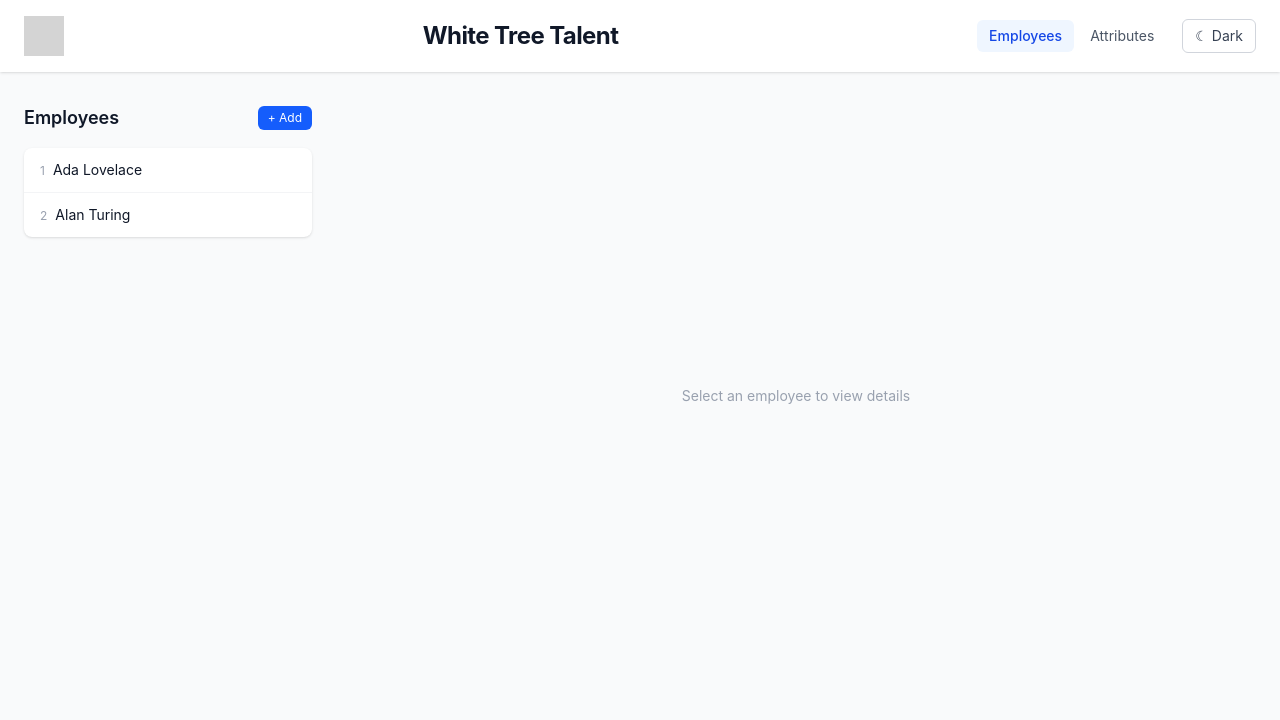
App › renders snapshot fields after selecting an employee
This screenshot has width=1280, height=720.
Click the button "1Ada Lovelace": (113, 170) left=24, top=148, right=312, bottom=192
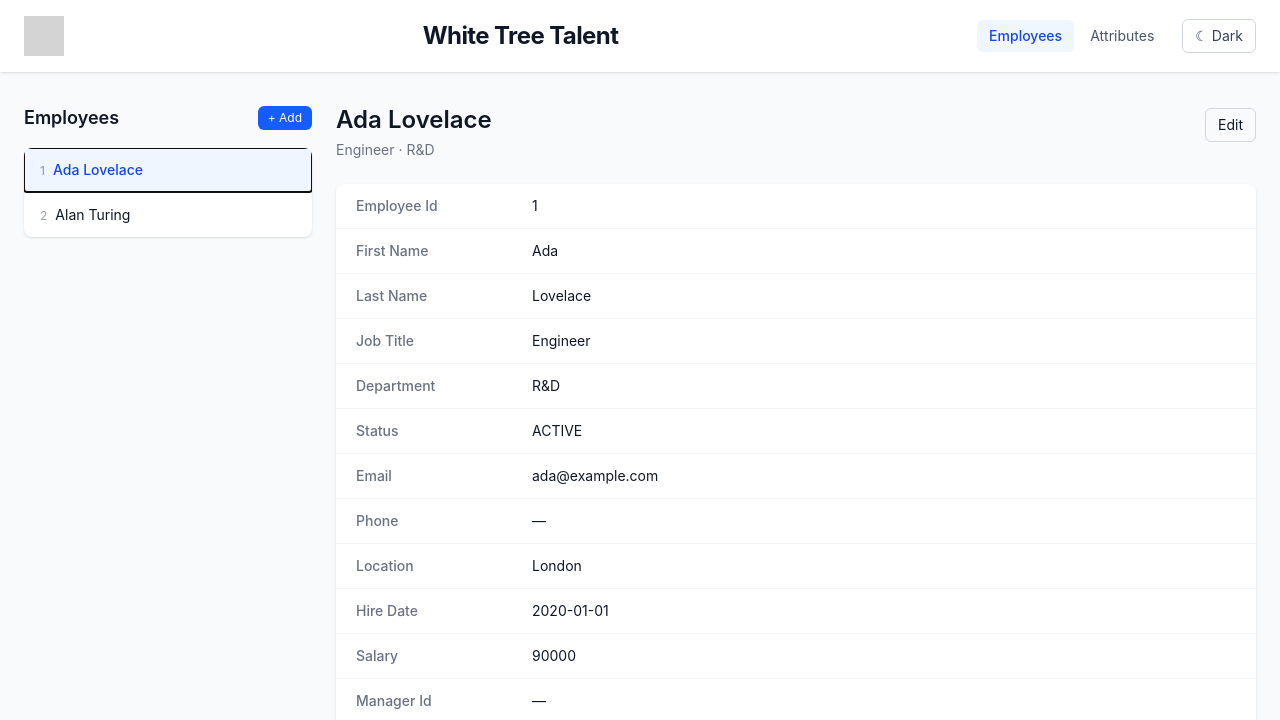
Result: the text "Engineer · R&D" is shown at left=336, top=141, right=435, bottom=158
